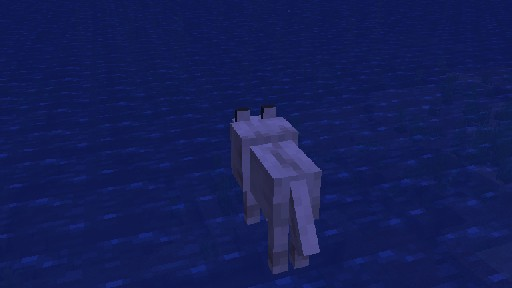wolf: (229, 103, 321, 274)
